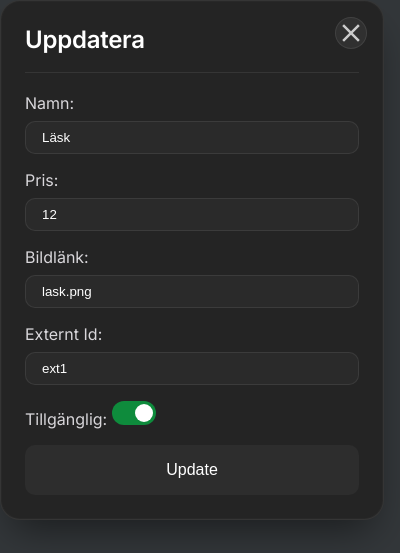
it: UpdateItemPopup › accept button state › is enabled after the availability changes
Step 1. Click the checkbox labelled "Tillgänglig:" → {"x": 68, "y": 419}, box [25, 409, 112, 429]
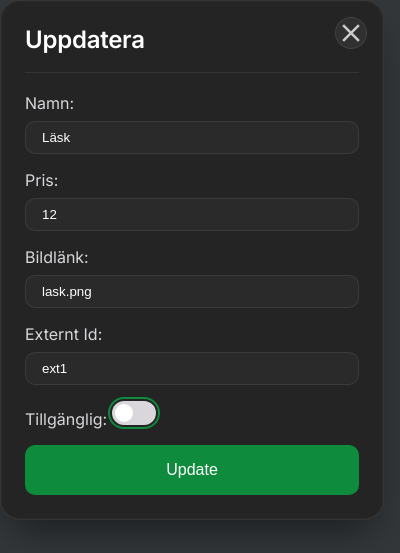
Result: the button "Update" is enabled at [25, 445, 359, 495]
